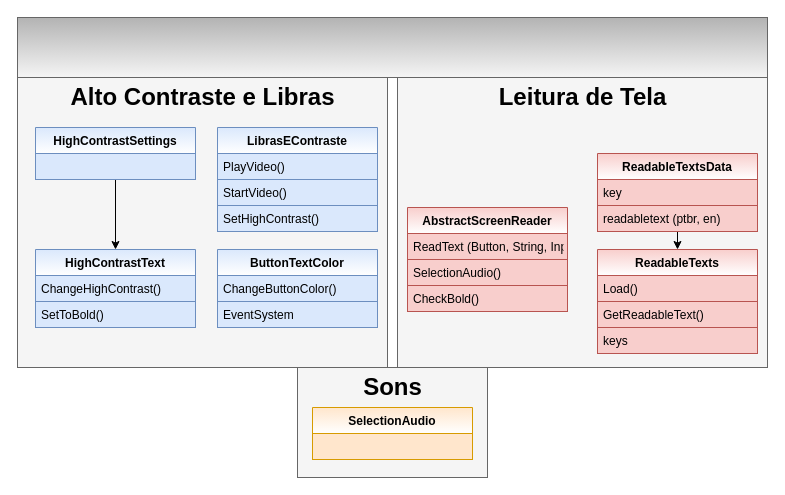
This 785x495 diagram has some shape labels left out. The centre of each missing label's shape, as x and y in pixels:
PlaySelectionAudio(): (392,446)
SetHighAcessibility(): (115,166)
TolkUtil: (392,47)
